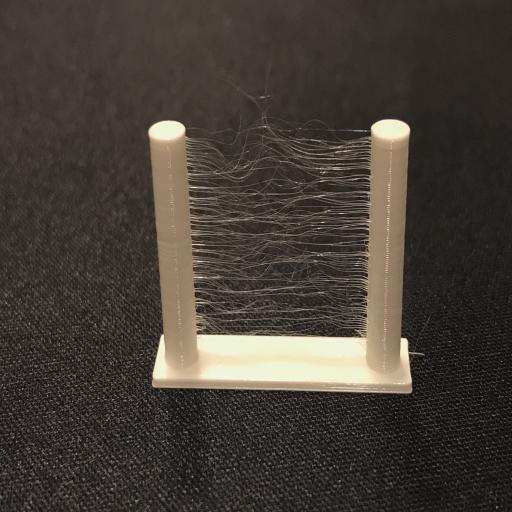stringing: (182, 114, 373, 347)
